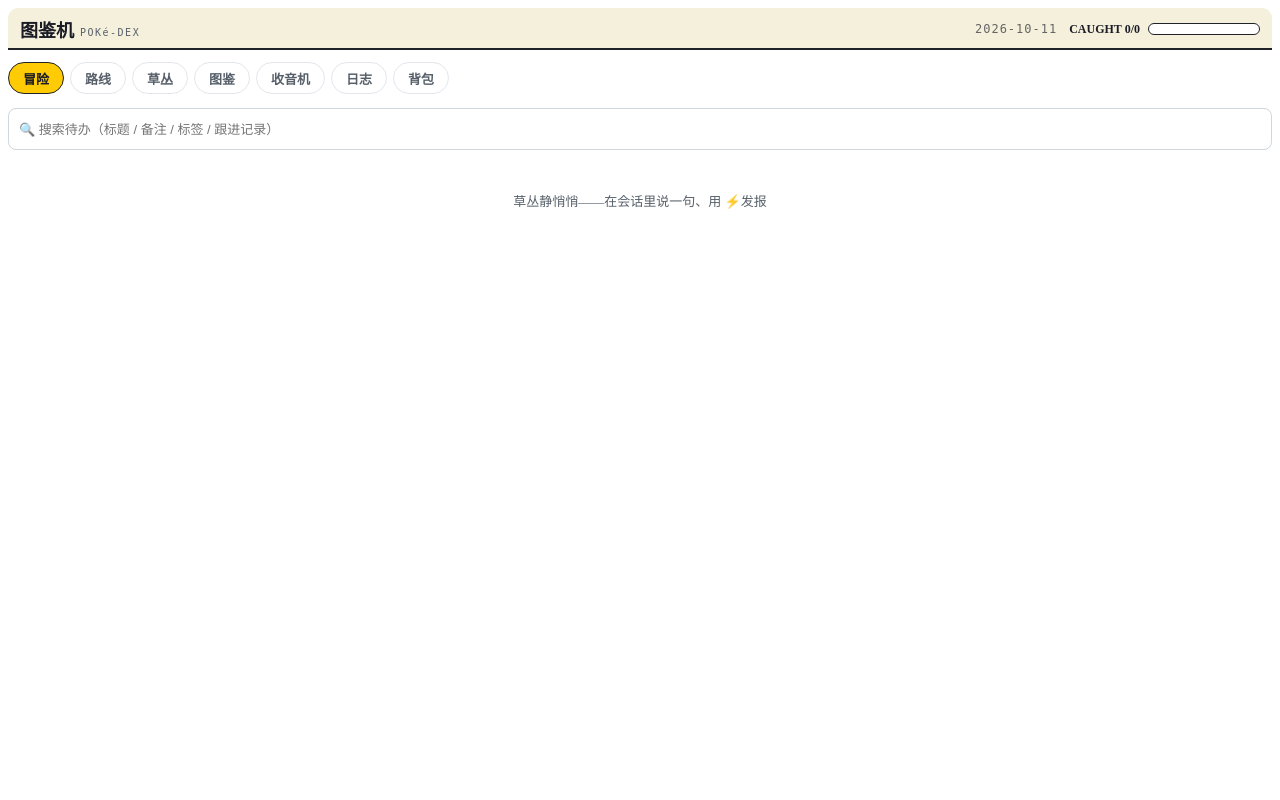
Test: 空态文案（§8） › 收音机无消息：电波安静
This screenshot has width=1280, height=800.
Click the button "收音机": (291, 78) [256,62,325,94]
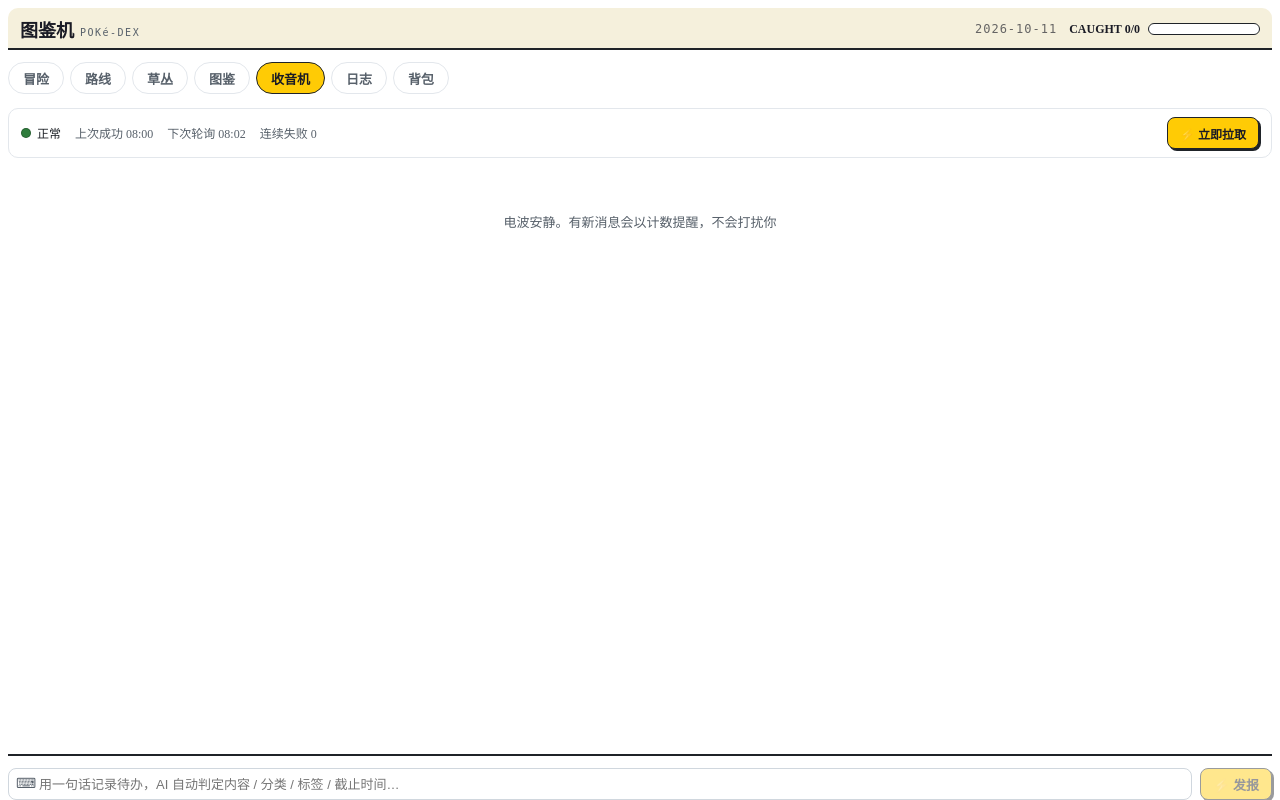
Expected: the text "电波安静。有新消息会以计数提醒，不会打扰你" is shown, [504,215,776,230]
